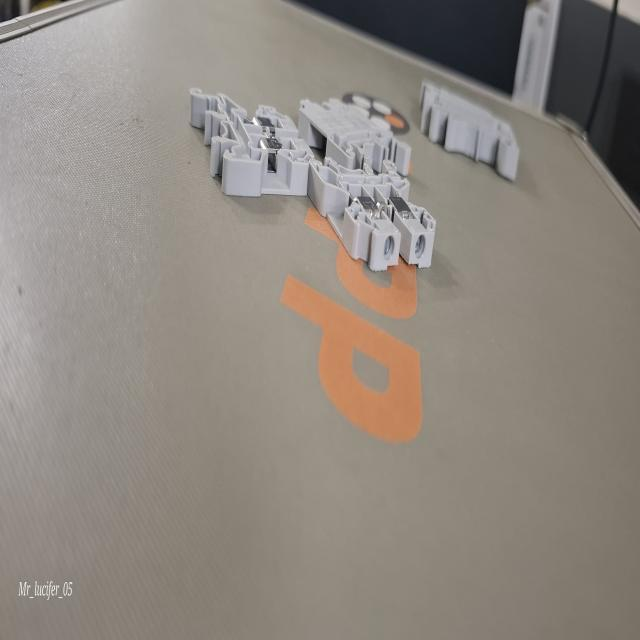Pass: (183, 68, 316, 212), (306, 156, 438, 278)
